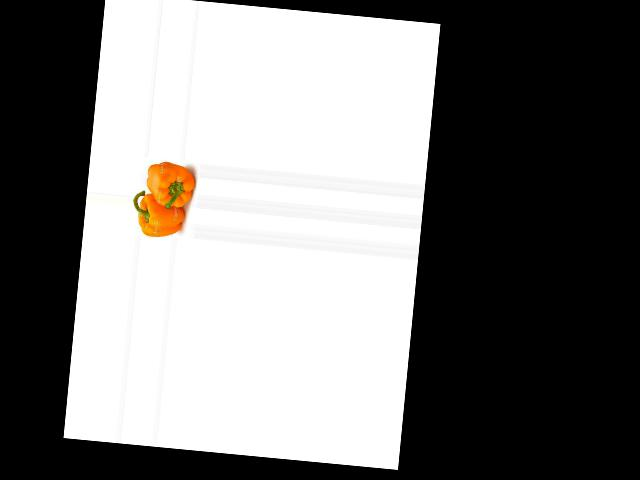bell_pepper: (132, 188, 187, 240)
